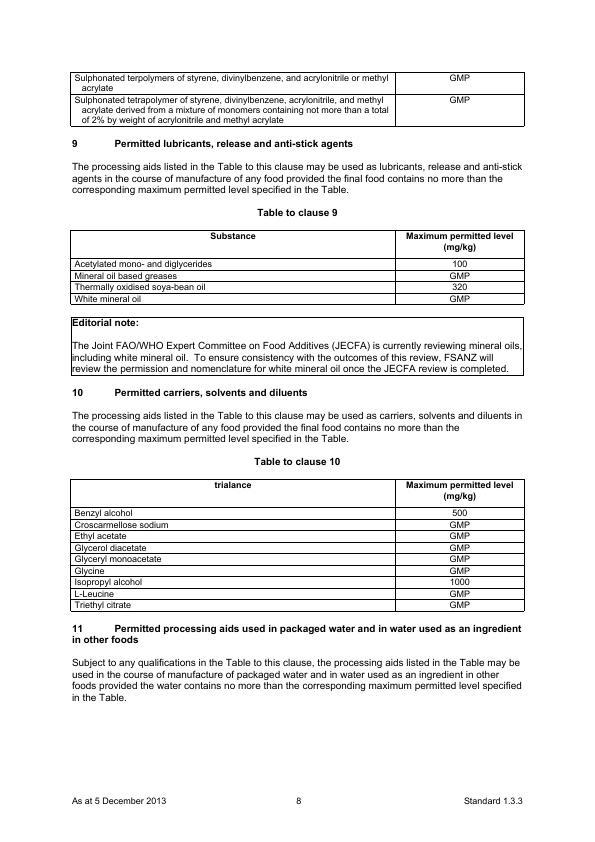table: (64, 476, 535, 615), (66, 226, 529, 310), (66, 68, 528, 132)
text: (67, 620, 531, 707), (68, 383, 527, 449), (68, 135, 529, 198), (71, 316, 525, 374), (248, 450, 344, 470), (254, 202, 343, 222)
